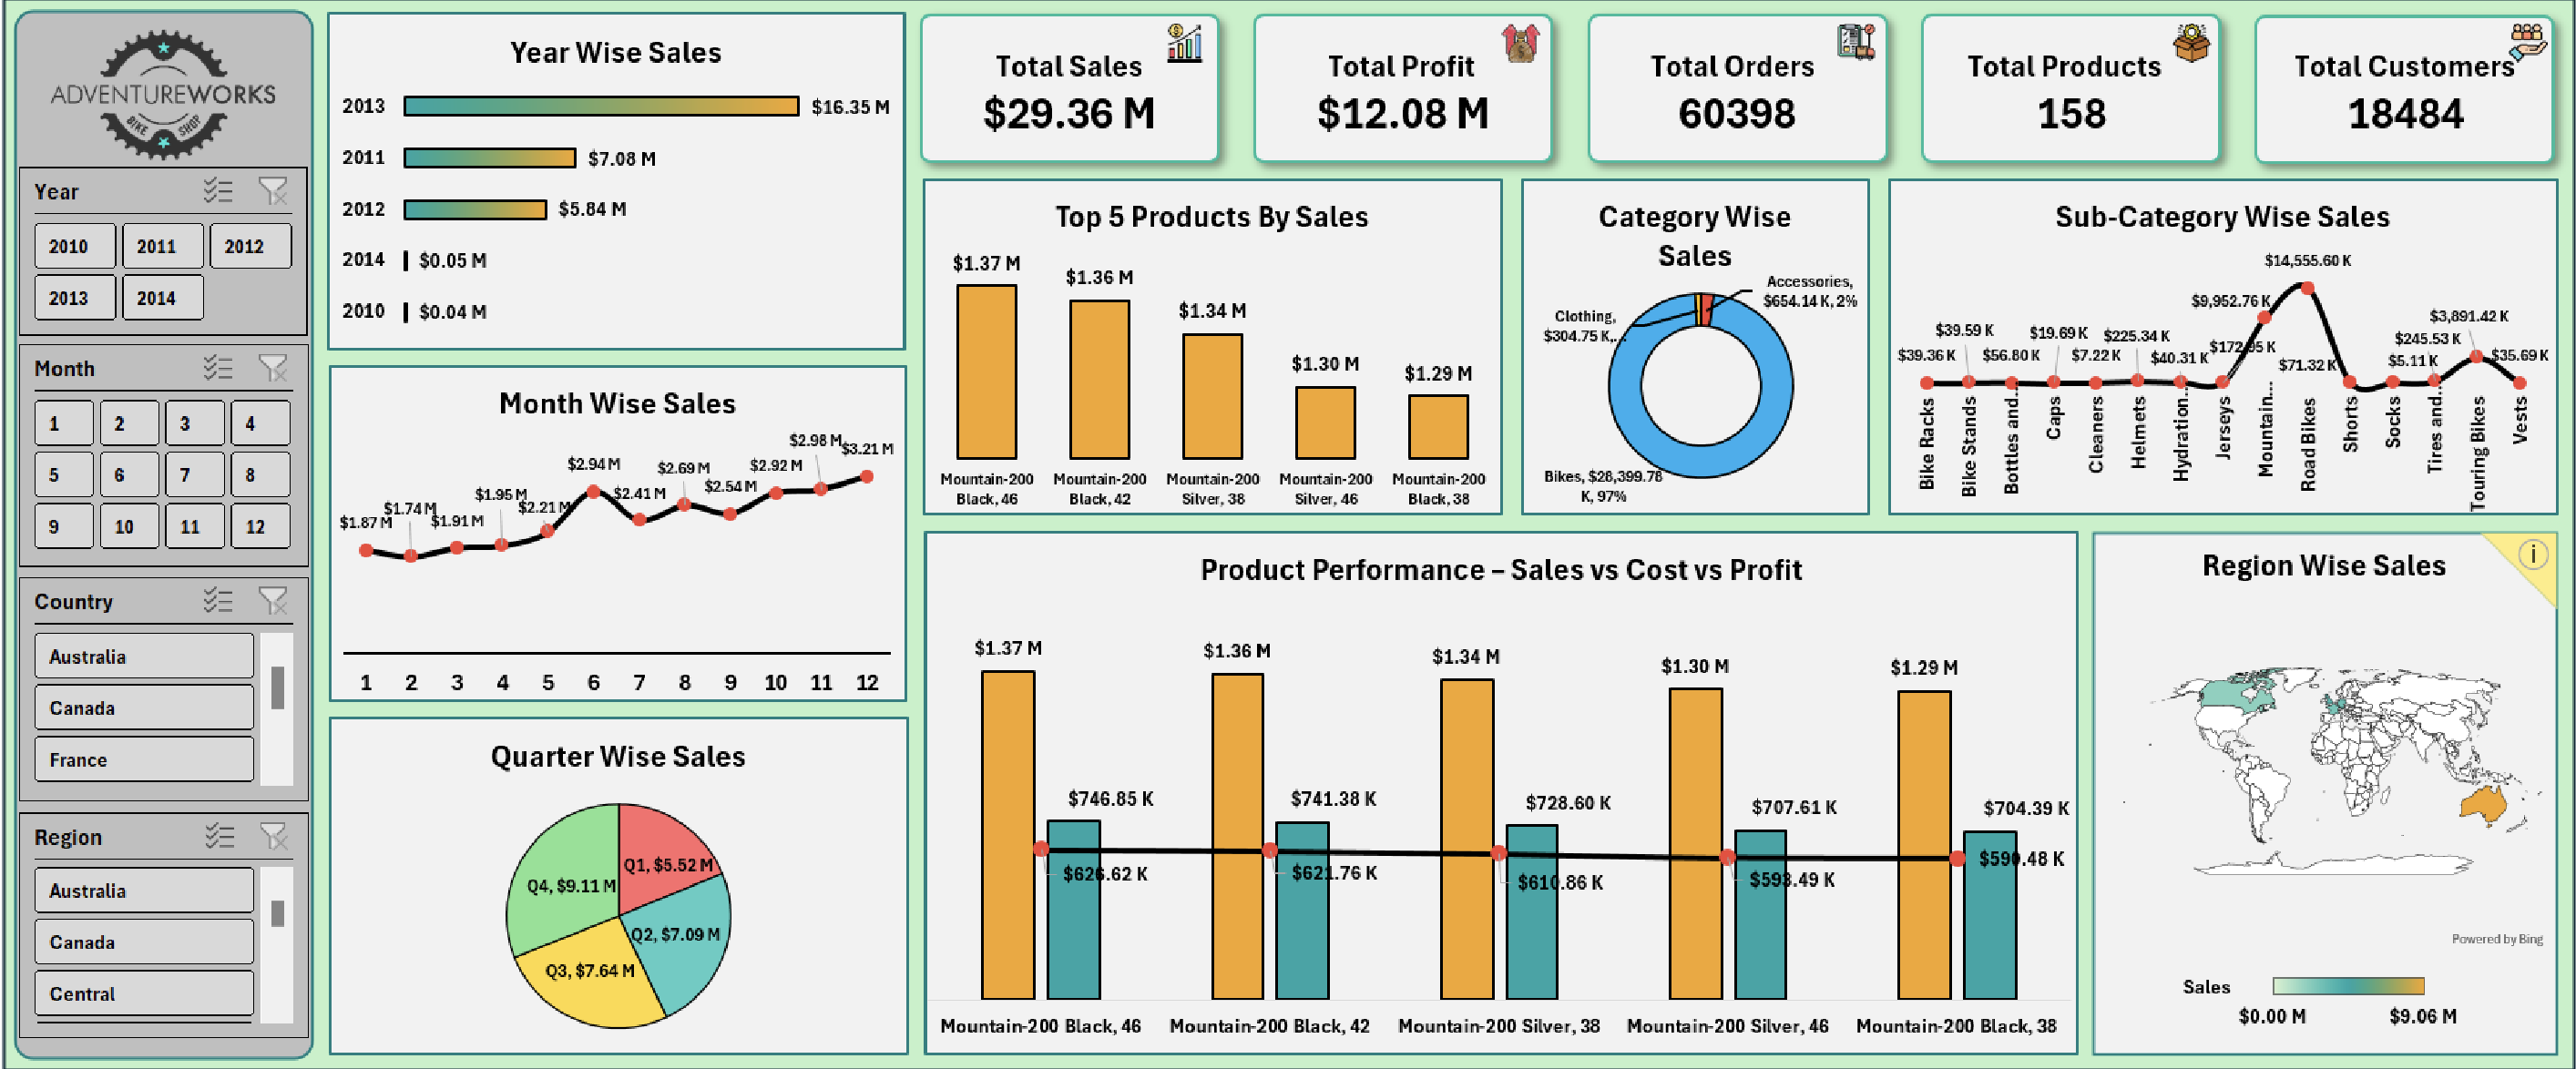

The dashboard page shown, as its layout file describes it:
{"tool":"tableau","page":{"name":"Dashboard","canvas":[1000,1000],"units":"permille","ordinal":0},"visuals":[{"type":"text","box":[4.8,11.8,989.7,57.3]},{"type":"image","param":"Image/ChatGPT Image Nov 29, 2025, 06_23_58 PM.png","box":[4.8,67.5,108,155.7]},{"type":"worksheet","title":"Q8","mark":"Bar","rows":["Calculation_5020658167025677"],"cols":["SalesAmount"],"box":[116.5,67.5,309,311.3]},{"type":"worksheet","title":"KPI","mark":"Automatic","box":[430.5,67.5,109.6,88.1]},{"type":"worksheet","title":"KPI (2)","mark":"Automatic","box":[544.1,67.5,109.6,88.1]},{"type":"worksheet","title":"KPI (3)","mark":"Automatic","box":[657.7,67.5,109.6,88.1]},{"type":"worksheet","title":"KPI (4)","mark":"Automatic","box":[771.2,67.5,109.6,88.1]},{"type":"worksheet","title":"KPI (5)","mark":"Automatic","box":[885.1,67.5,105.4,88.1]},{"type":"worksheet","title":"CWS","mark":"Automatic","box":[430.3,161.5,330.4,337.7]},{"type":"worksheet","title":"Q12 (3)","mark":"Pie","rows":["Calculation_2308231848927235","Calculation_2308231848927235"],"box":[765.5,161.5,221.9,337.7]},{"type":"text","box":[12.6,221.7,76.6,64.6]},{"type":"dashboard-object","box":[90.8,235,19.7,35.2]},{"type":"filter","title":"Q8","param":"[federated.1wsct3t0o1zjqs16q72st14u9fwu].[none:Calculation_5020658167025677:nk]","box":[11.1,286.3,103.8,208.5]},{"type":"worksheet","title":"Q9","mark":"Line","rows":["SalesAmount"],"cols":["Calculation_1539192481325056"],"box":[116.5,387.7,309,292.2]},{"type":"filter","title":"Q9","param":"[federated.1wsct3t0o1zjqs16q72st14u9fwu].[none:Calculation_5020658166235146:nk]","box":[11.1,494.9,103.8,114.5]},{"type":"worksheet","title":"Q12 (6)","mark":"Square","rows":["Calculation_1539192513744899"],"box":[435.3,505.1,141.4,235]},{"type":"worksheet","title":"S-CWS","mark":"Automatic","box":[587.2,505.1,401.7,475.8]},{"type":"filter","title":"Q10","param":"[federated.1wsct3t0o1zjqs16q72st14u9fwu].[none:Calculation_5020658163666953:nk]","box":[11.1,609.4,103.8,183.6]},{"type":"worksheet","title":"Q10","mark":"Pie","box":[116.5,688.7,309,287.8]},{"type":"worksheet","title":"Q12 (7)","mark":"Square","rows":["Calculation_1539192522903558"],"box":[430.5,744.5,151.7,233.5]},{"type":"filter","title":"CWS","param":"[federated.1wsct3t0o1zjqs16q72st14u9fwu].[none:SalesTerritoryCountry:nk]","box":[11.1,793,103.8,79.3]},{"type":"filter","title":"Q12 (3)","param":"[federated.1wsct3t0o1zjqs16q72st14u9fwu].[none:SalesTerritoryRegion:nk]","box":[11.1,872.3,103.8,80.8]}]}

Visuals, with their boxes on the dashboard's canvas, which has no fixed pixel size, in thousandths of its width and height (x1, y1, x2, y2). These are canvas units, not pixel positions in the 2576x1069 screenshot, which may show the page scaled, cropped or inside an application window:
text: left=5, top=12, right=994, bottom=69
image: left=5, top=68, right=113, bottom=223
"Q8" worksheet (Bar marks): left=116, top=68, right=426, bottom=379
"KPI" worksheet: left=430, top=68, right=540, bottom=156
"KPI (2)" worksheet: left=544, top=68, right=654, bottom=156
"KPI (3)" worksheet: left=658, top=68, right=767, bottom=156
"KPI (4)" worksheet: left=771, top=68, right=881, bottom=156
"KPI (5)" worksheet: left=885, top=68, right=990, bottom=156
"CWS" worksheet: left=430, top=162, right=761, bottom=499
"Q12 (3)" worksheet (Pie marks): left=766, top=162, right=987, bottom=499
text: left=13, top=222, right=89, bottom=286
dashboard-object: left=91, top=235, right=110, bottom=270
"Q8" filter: left=11, top=286, right=115, bottom=495
"Q9" worksheet (Line marks): left=116, top=388, right=426, bottom=680
"Q9" filter: left=11, top=495, right=115, bottom=609
"Q12 (6)" worksheet (Square marks): left=435, top=505, right=577, bottom=740
"S-CWS" worksheet: left=587, top=505, right=989, bottom=981
"Q10" filter: left=11, top=609, right=115, bottom=793
"Q10" worksheet (Pie marks): left=116, top=689, right=426, bottom=976
"Q12 (7)" worksheet (Square marks): left=430, top=744, right=582, bottom=978
"CWS" filter: left=11, top=793, right=115, bottom=872
"Q12 (3)" filter: left=11, top=872, right=115, bottom=953
